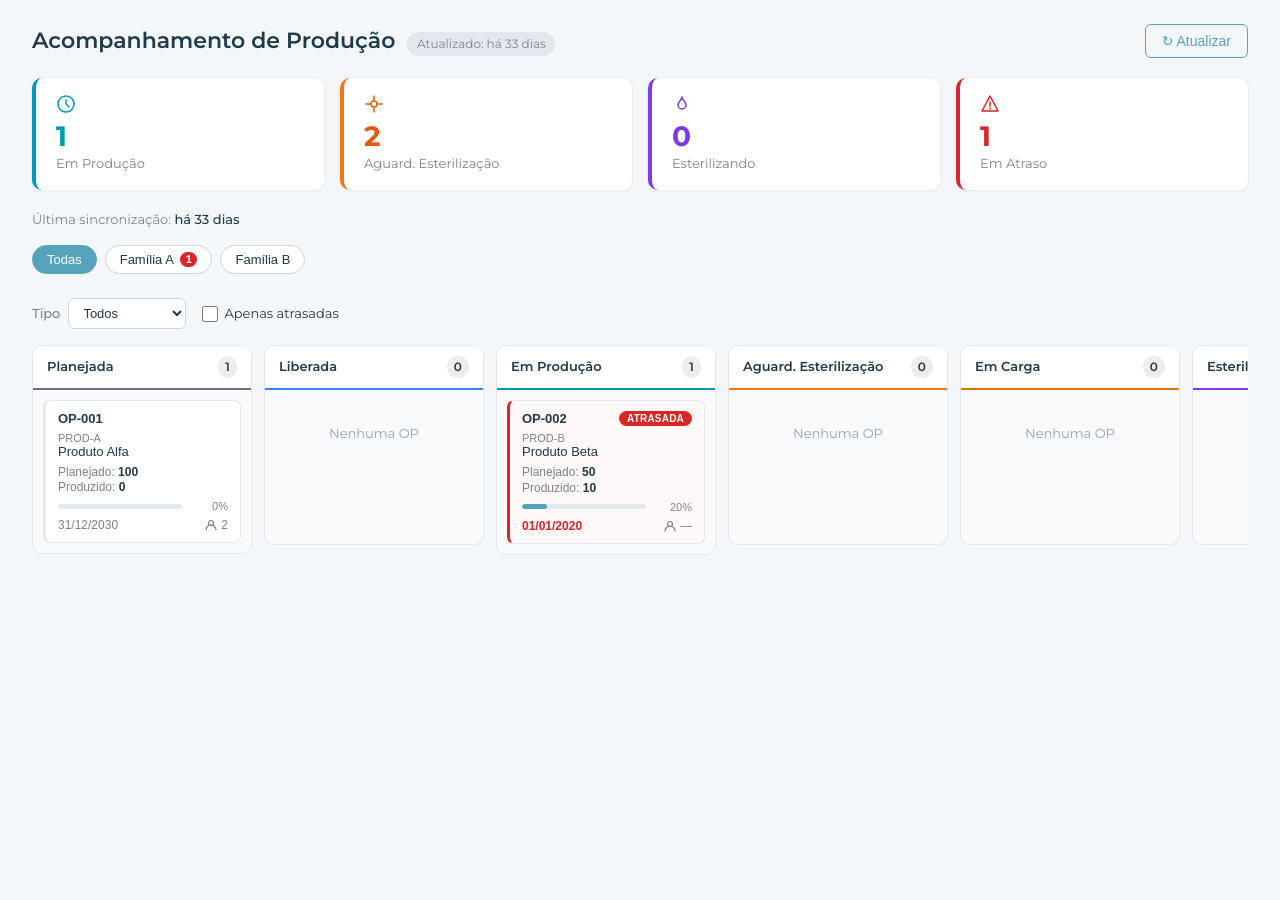
Scenario: ProductionTrackingComponent › (d) clique em card abre painel lateral com dados da OP
This screenshot has width=1280, height=900.
# Click on OP-001 card
Click the button with test id "card-OP-001": x=142, y=471 left=43, top=400, right=241, bottom=543
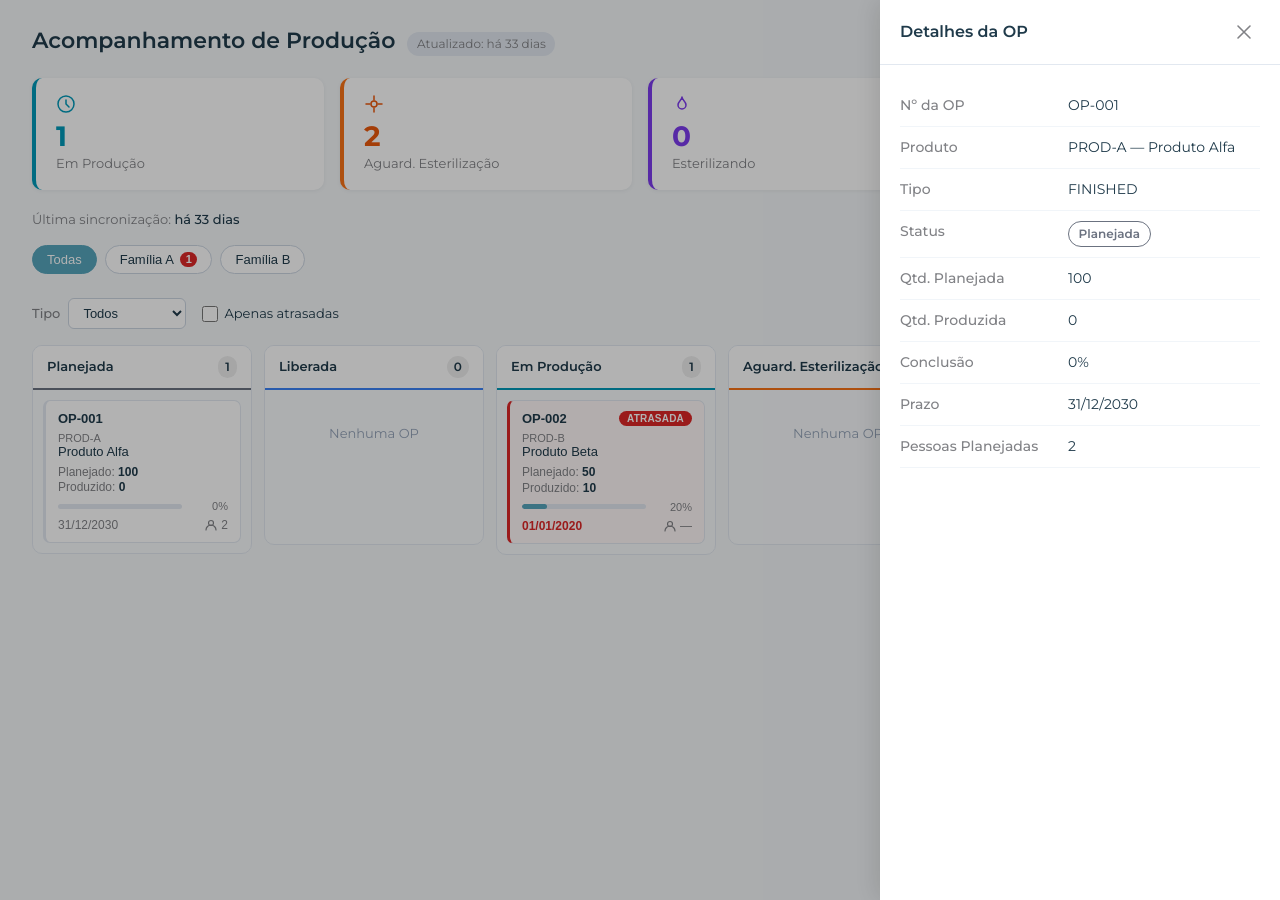
Check: the element with test id "side-panel" is shown, box left=880, top=0, right=1279, bottom=899
Check: the text with test id "detail-product" shows "PROD-A", box left=1068, top=138, right=1235, bottom=156
Check: the text with test id "detail-product" shows "Produto Alfa", box left=1068, top=138, right=1235, bottom=156
